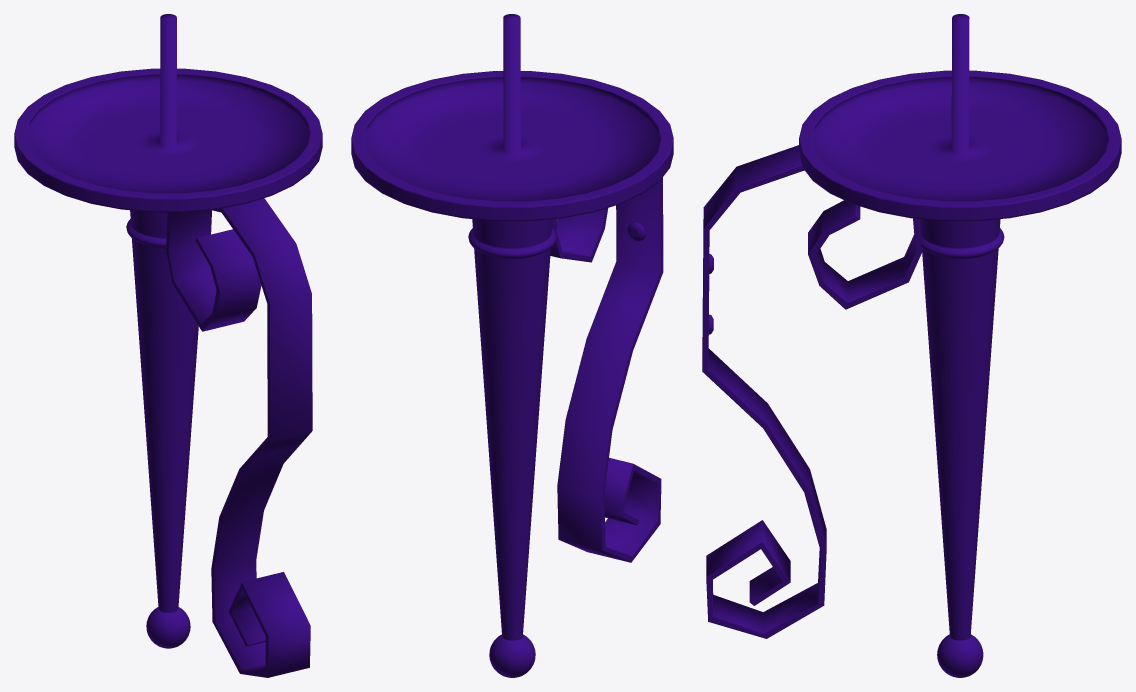
File: wallcandleholder.fbx
3 renders of one model, left to right at view 1: azimuth 30°, elevation 25°; view 2: azimuth 150°, elevation 25°; view 3: azimuth 270°, elevation 25°, orthographic. The views are drawn at different scales.
Parts seen in each view (by area): view 1: wall candle holder; view 2: wall candle holder; view 3: wall candle holder.
Part boxes in pixels (box(x1,y1,x2,y2)): wall candle holder: box(14, 14, 322, 677); wall candle holder: box(351, 14, 673, 677); wall candle holder: box(702, 14, 1121, 677).
Size of the model in its own units: 9.15 by 20.72 by 11.95.
